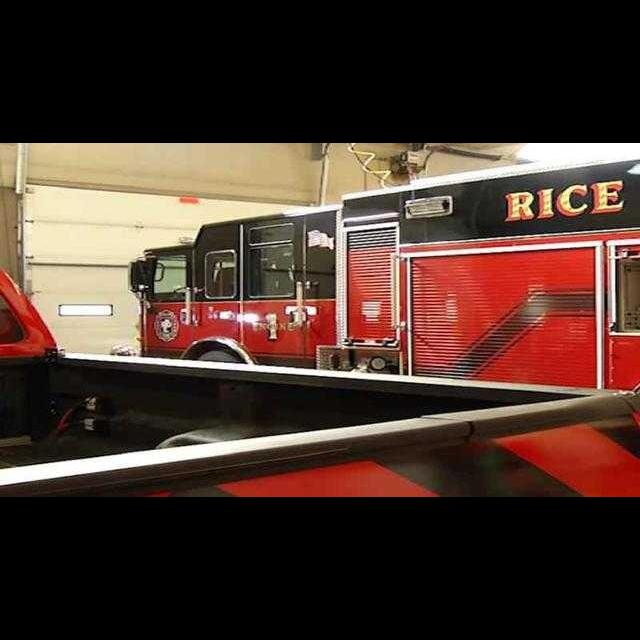emergency: (128, 157, 640, 390)
